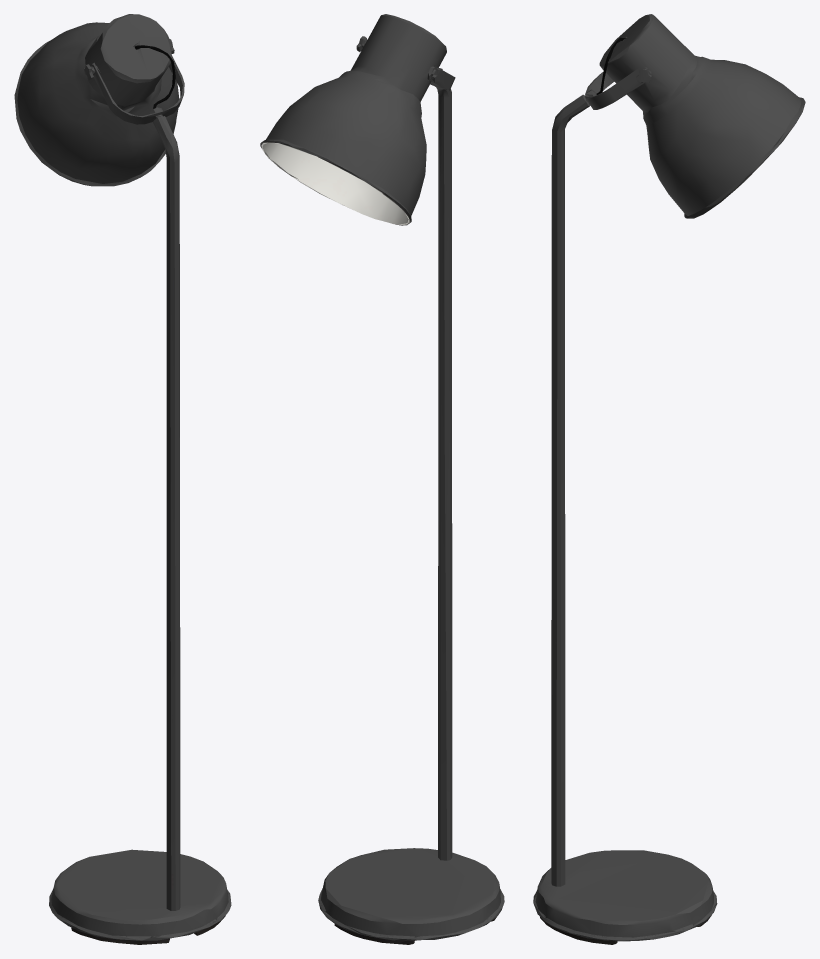
File: floor_lamp_hektar_60216549.glb
3 renders of one model, left to right at view 1: azimuth 30°, elevation 25°; view 2: azimuth 150°, elevation 25°; view 3: azimuth 270°, elevation 25°, orthographic.
Visible parts, largest first — view 1: ProcessedMeshNode; view 2: ProcessedMeshNode; view 3: ProcessedMeshNode.
Boxes of the visible parts, x1=… form: ProcessedMeshNode: x1=14, y1=14, x2=231, y2=944; ProcessedMeshNode: x1=260, y1=14, x2=504, y2=944; ProcessedMeshNode: x1=533, y1=14, x2=805, y2=944.
Size of the model in its own units: 0.36 by 1.83 by 0.5086.
1 material, 1 textured.
